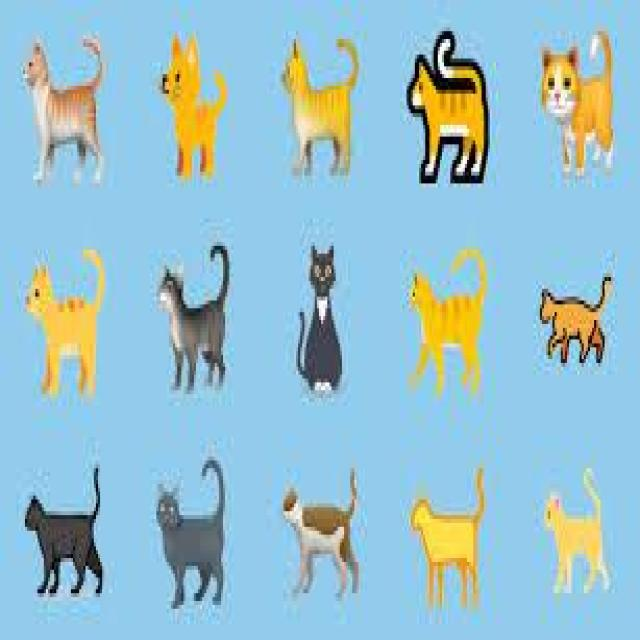cats: (404, 28, 488, 184), (280, 31, 358, 176), (23, 464, 102, 594), (294, 242, 342, 390), (538, 269, 611, 363)
dog: (21, 32, 102, 184), (156, 242, 230, 390)
